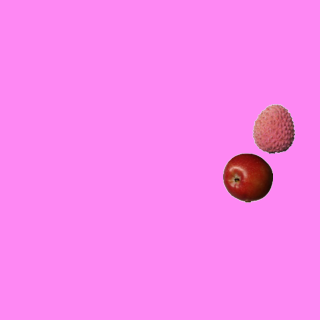Apple Braeburn: (222, 152, 272, 202)
Lychee: (248, 103, 298, 153)
